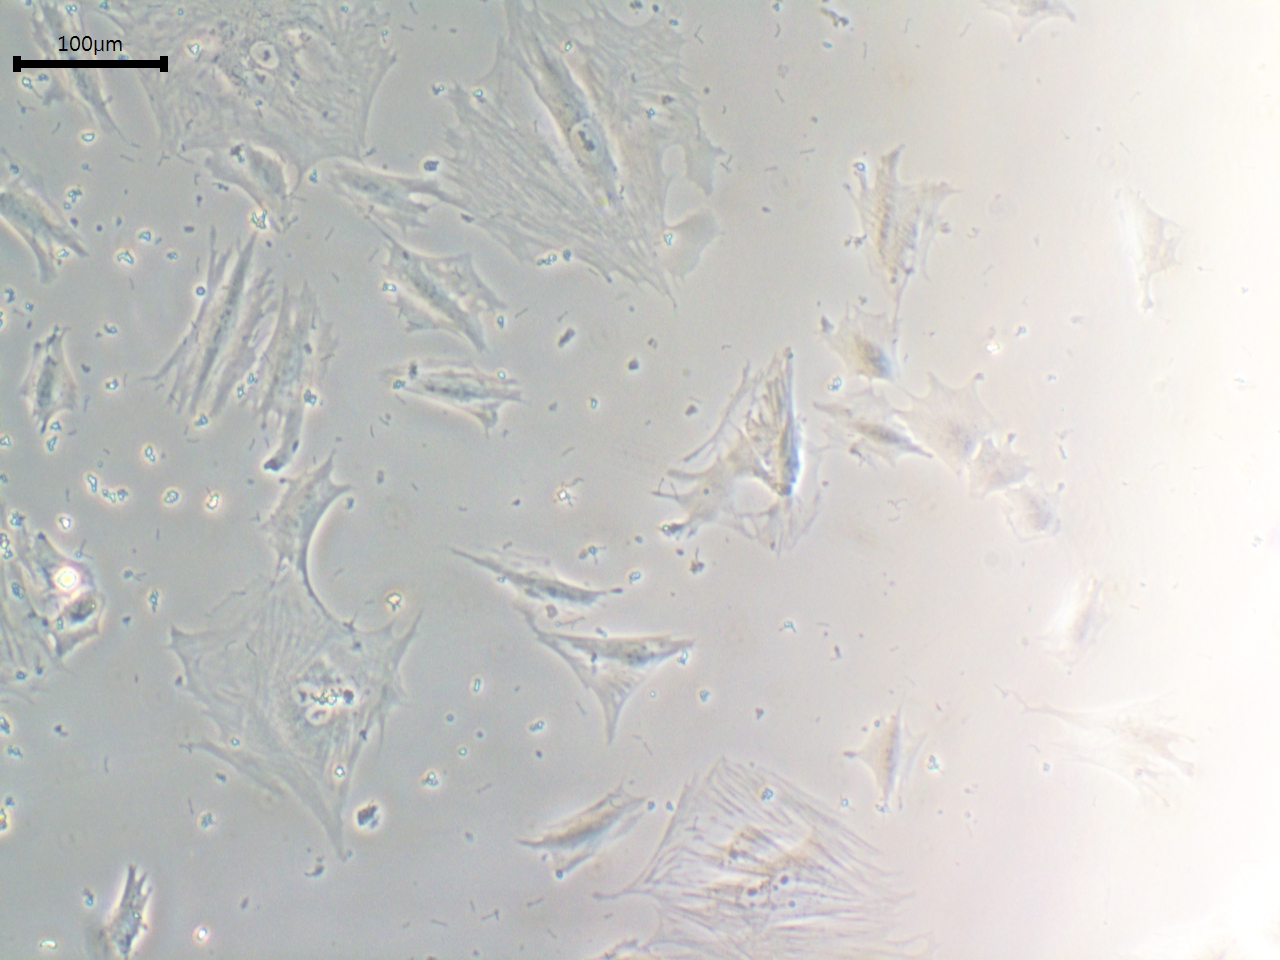dividing: (155, 564, 457, 870), (171, 232, 267, 440), (250, 284, 353, 469), (243, 442, 369, 573)
large-spread: (415, 5, 771, 311)
medium-polygonal: (507, 620, 698, 742), (478, 773, 654, 882), (367, 221, 506, 352), (444, 536, 625, 618)
medium-spread: (680, 338, 823, 507), (853, 147, 962, 323)
small-polygonal: (372, 358, 523, 432), (319, 155, 456, 231), (820, 386, 931, 477), (12, 314, 92, 439), (843, 712, 942, 811), (809, 298, 909, 385), (111, 860, 159, 960)
small-spread: (895, 367, 1006, 481), (968, 430, 1050, 501), (994, 482, 1078, 547)
